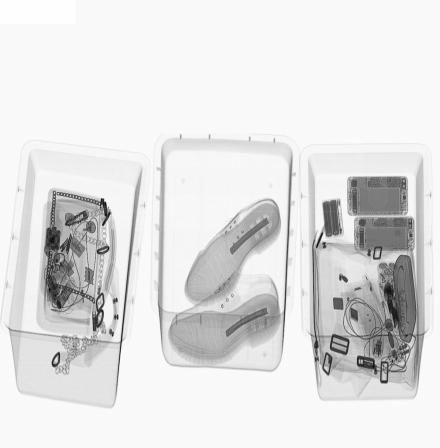Powerbank: (322, 198, 343, 238)
